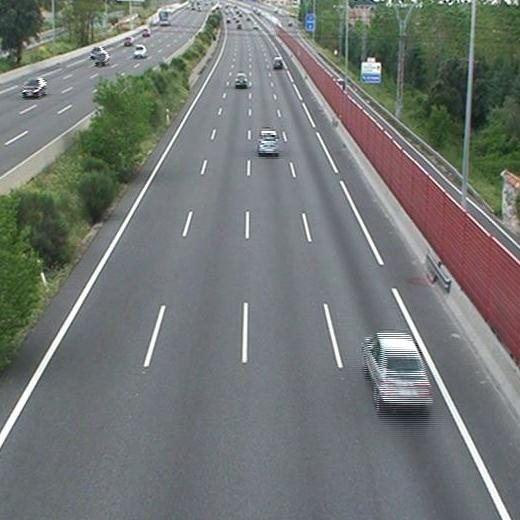car: (363, 333, 431, 404), (258, 130, 279, 153), (234, 73, 248, 86), (273, 58, 282, 67)
